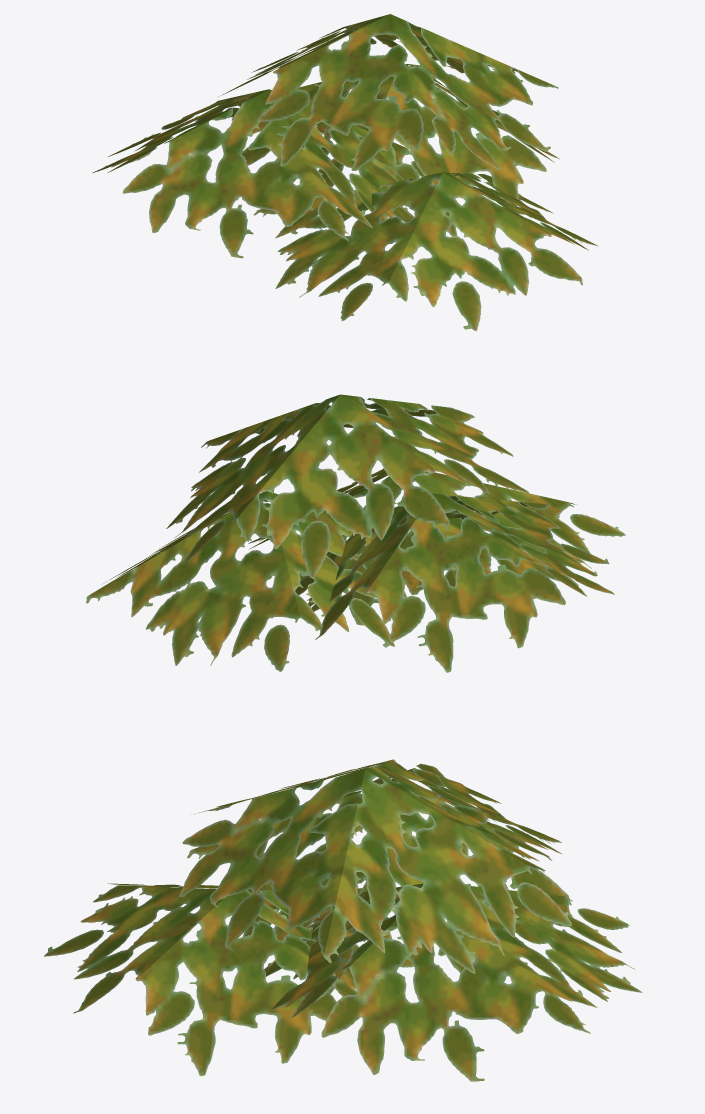
Rendered from plant_lobbynew02_zhiwu_shu05.FBX.
The picture shows the model from 3 angles, top to bottom: view 1: azimuth 30°, elevation 25°; view 2: azimuth 150°, elevation 25°; view 3: azimuth 270°, elevation 25°; orthographic projection. The views are drawn at different scales.
Parts seen in each view (by area): view 1: plant_lobbynew02_zhiwu_shu05; view 2: plant_lobbynew02_zhiwu_shu05; view 3: plant_lobbynew02_zhiwu_shu05.
Boxes of the visible parts, x1,y1,x2,y2 form: plant_lobbynew02_zhiwu_shu05: (92, 14, 598, 331); plant_lobbynew02_zhiwu_shu05: (86, 394, 625, 672); plant_lobbynew02_zhiwu_shu05: (44, 759, 642, 1081).
Size of the model in its own units: 248 by 237 by 95.06.
